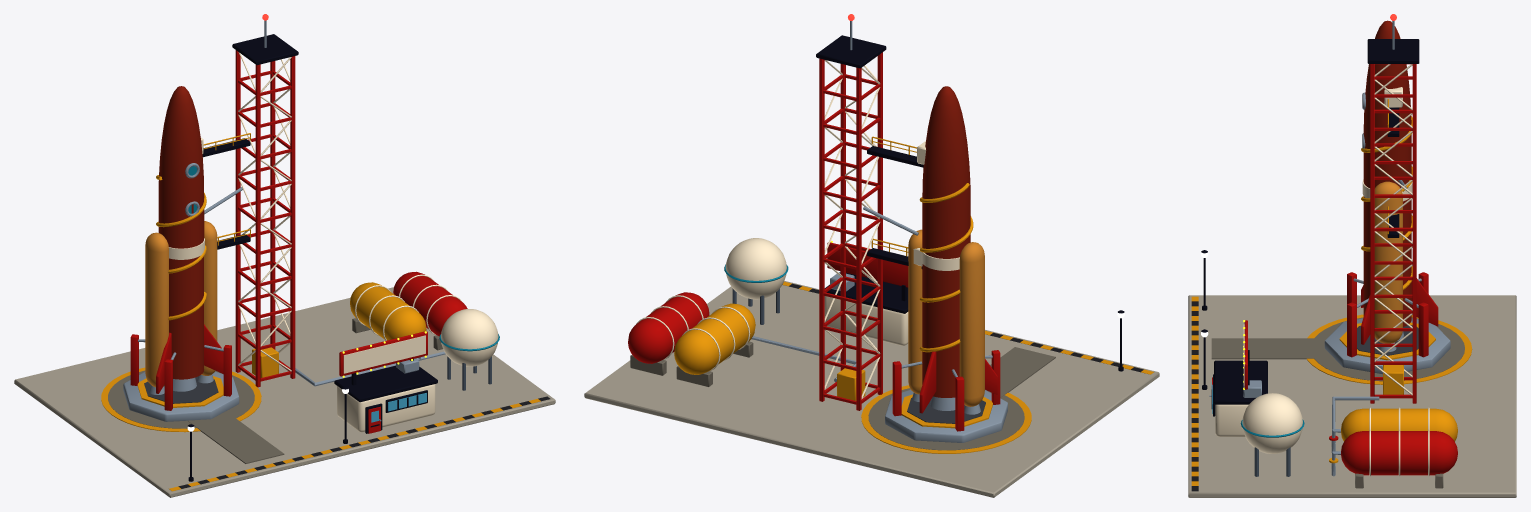
Rendered from LaunchSite.fbx.
The picture shows the model from 3 angles, left to right: view 1: azimuth 30°, elevation 25°; view 2: azimuth 150°, elevation 25°; view 3: azimuth 270°, elevation 25°; orthographic projection. The views are drawn at different scales.
Visible parts, largest first — view 1: LaunchSite; view 2: LaunchSite; view 3: LaunchSite.
Part boxes in pixels (x1=…): LaunchSite: x1=14, y1=14, x2=555, y2=497; LaunchSite: x1=584, y1=14, x2=1159, y2=497; LaunchSite: x1=1188, y1=14, x2=1516, y2=497.
Bounding box in the file's own units: 40 × 36.2 × 28.
